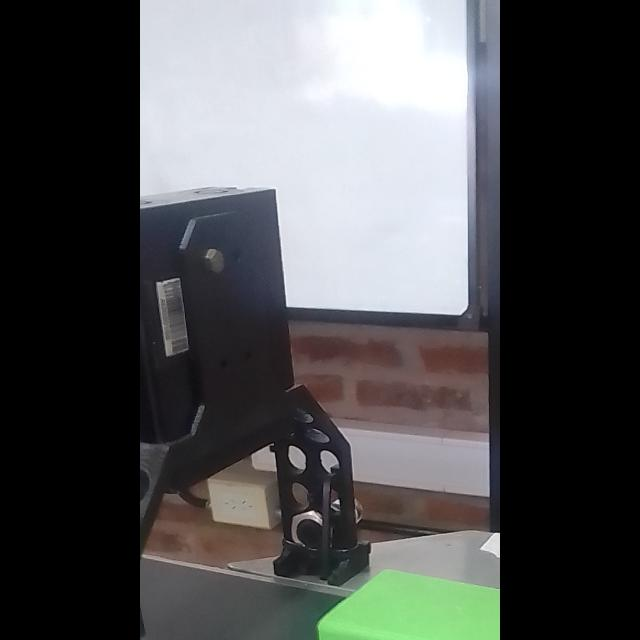greenBox: (310, 558, 500, 640)
